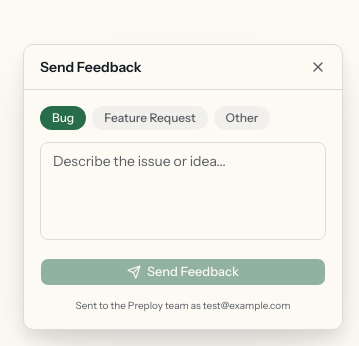
Test case: FeedbackDialog › shows error message when fetch returns non-OK response
In the text box with test id "feedback-textarea": [183, 191] box x1=40 y1=142 x2=326 y2=240, type "This is a feedback message."
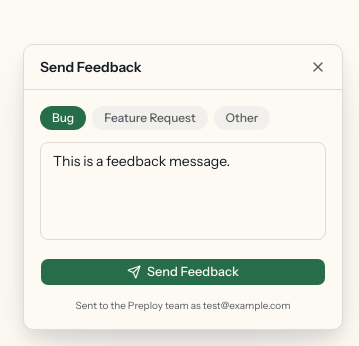
Click the button with test id "feedback-send": [183, 272] box x1=40 y1=258 x2=326 y2=286
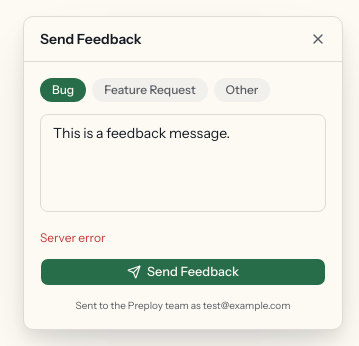
Expected: the text "Server error" is shown, x1=40 y1=230 x2=106 y2=245
